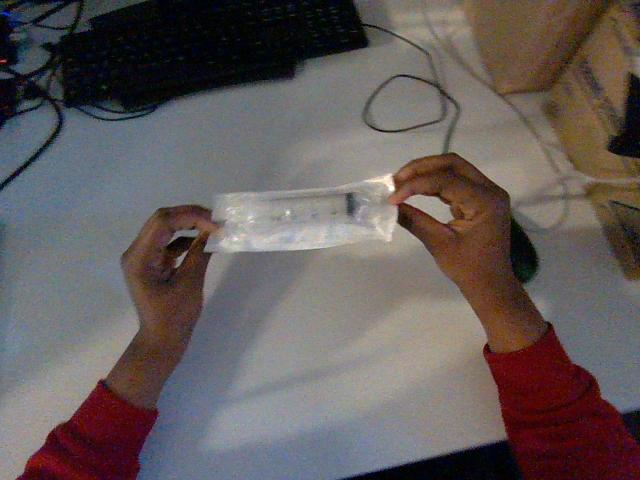syringe: (207, 174, 396, 251)
